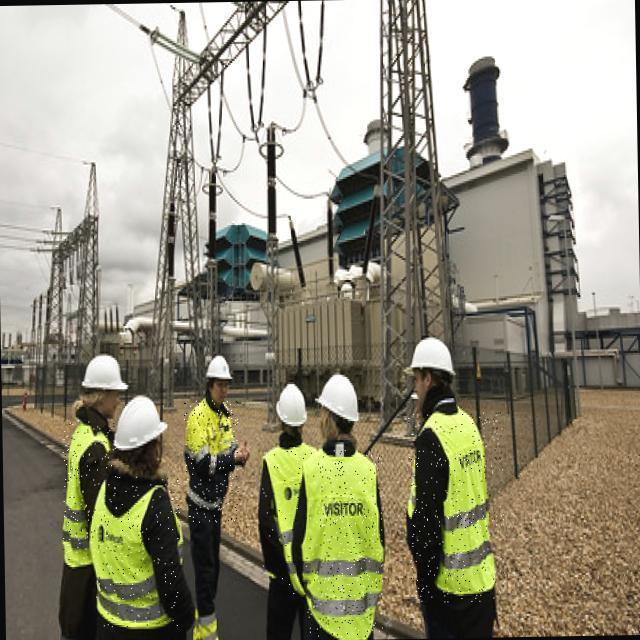helmet: (95, 397, 175, 452), (315, 365, 369, 428), (77, 349, 138, 397), (407, 333, 463, 380), (275, 385, 310, 429), (205, 341, 234, 387), (307, 359, 315, 363)
vest: (408, 412, 506, 603), (303, 449, 386, 638), (94, 472, 182, 627), (260, 444, 321, 599), (61, 421, 118, 565), (184, 400, 240, 523)
